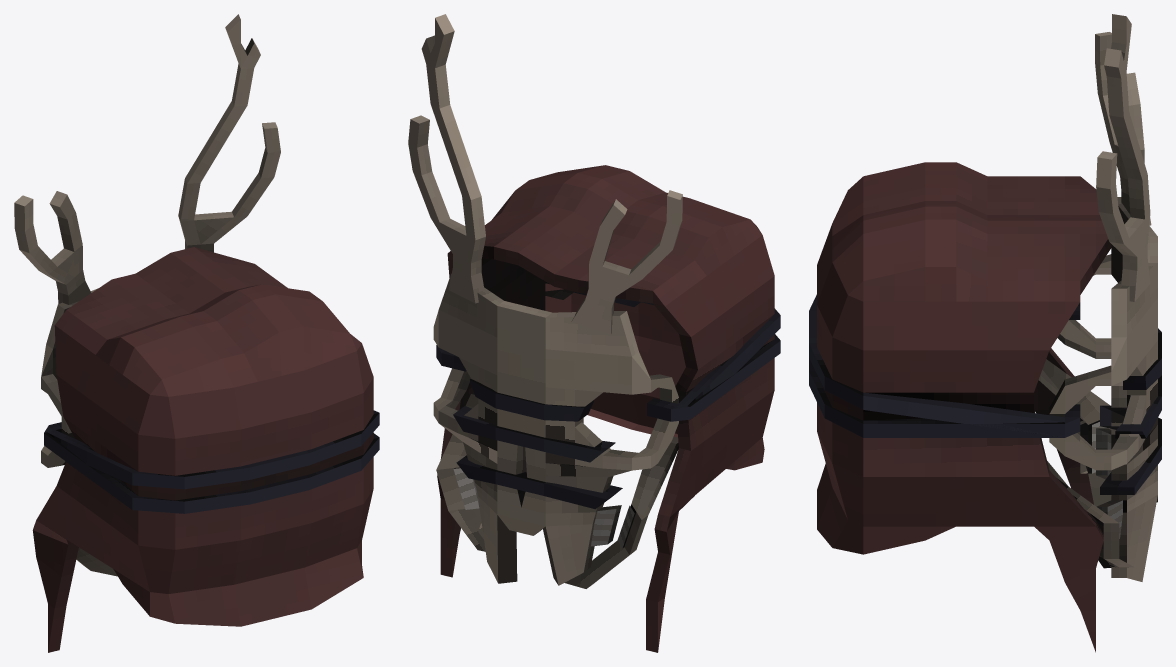
3 renders of one model, left to right at view 1: azimuth 30°, elevation 25°; view 2: azimuth 150°, elevation 25°; view 3: azimuth 270°, elevation 25°, orthographic. The views are drawn at different scales.
Parts seen in each view (by area): view 1: head; view 2: head; view 3: head.
Part boxes in pixels (x1,y1,x2,y2): head: (14,14,379,652); head: (408,14,780,652); head: (809,14,1161,652).
Bounding box in the file's own units: 0.7028 × 1.47 × 0.7109.
1 material, 1 textured.
